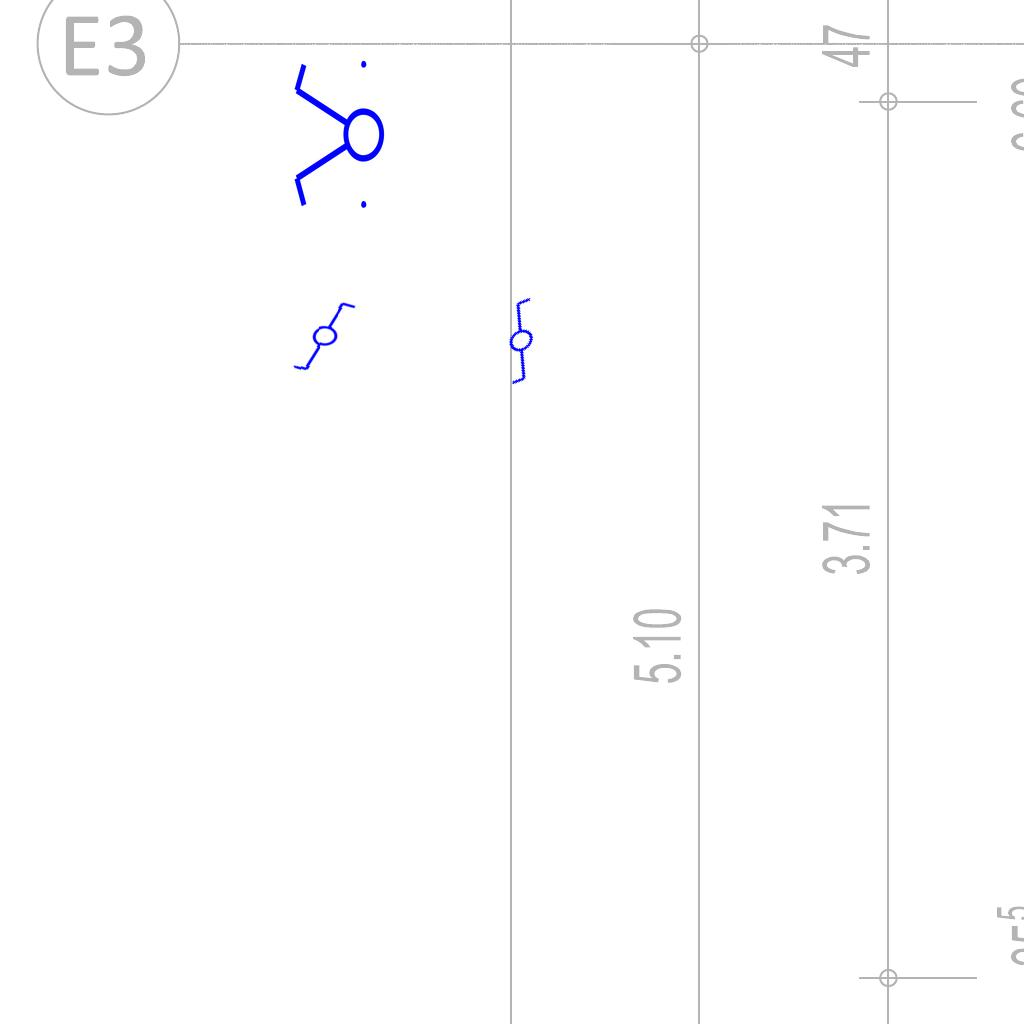Serienschalter: (290, 52, 386, 220)
Wechselschalter: (472, 286, 578, 392), (288, 299, 370, 375)
